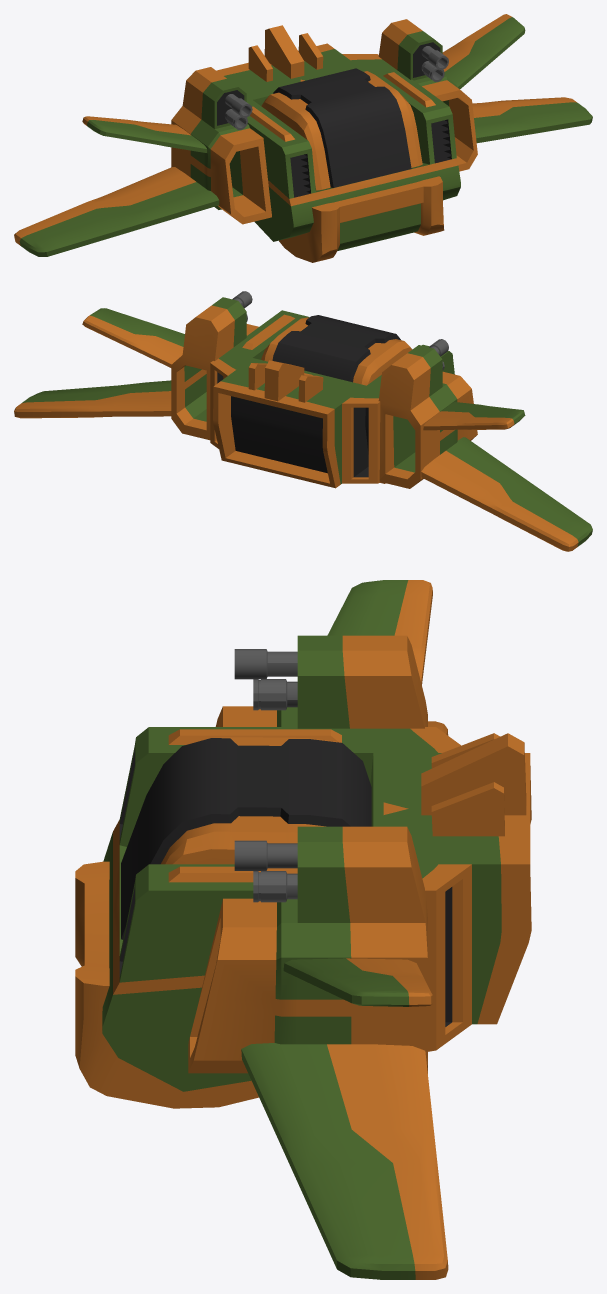
The model's file is Spaceship_FinnTheFrog_Cube.obj.
The picture shows the model from 3 angles, top to bottom: view 1: azimuth 30°, elevation 25°; view 2: azimuth 150°, elevation 25°; view 3: azimuth 270°, elevation 25°; orthographic projection. The views are drawn at different scales.
Parts seen in each view (by area): view 1: Spaceship_FinnTheFrog_Cube.003; view 2: Spaceship_FinnTheFrog_Cube.003; view 3: Spaceship_FinnTheFrog_Cube.003.
Boxes of the visible parts, x1,y1,x2,y2 form: Spaceship_FinnTheFrog_Cube.003: [14, 14, 592, 262]; Spaceship_FinnTheFrog_Cube.003: [14, 291, 592, 551]; Spaceship_FinnTheFrog_Cube.003: [75, 580, 531, 1279].
Size of the model in its own units: 11.62 by 3.06 by 4.11.
